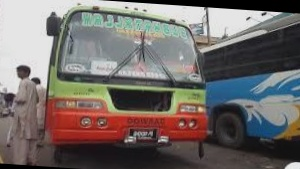bus: (39, 6, 213, 161), (195, 9, 300, 155)
